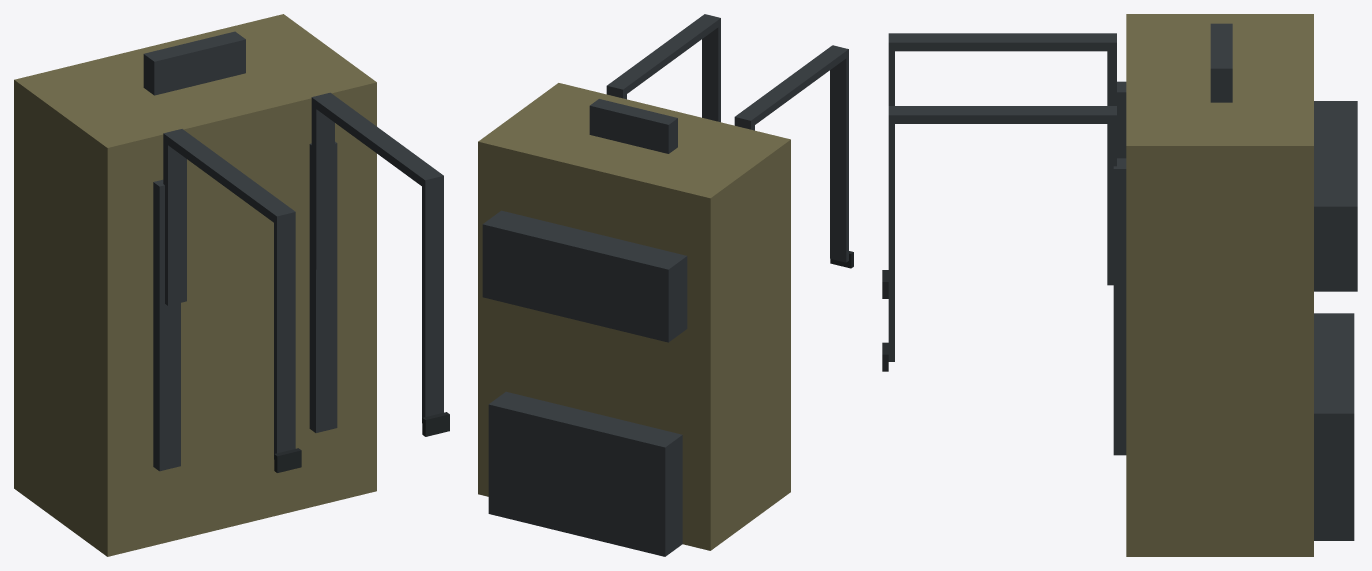
File: hiking_backpack_worn.glb
The picture shows the model from 3 angles, left to right: view 1: azimuth 30°, elevation 25°; view 2: azimuth 150°, elevation 25°; view 3: azimuth 270°, elevation 25°; orthographic projection. The views are drawn at different scales.
Visible parts, largest first — view 1: bag:bag, straps:straps; view 2: bag:bag, straps:straps; view 3: bag:bag, straps:straps.
Part boxes in pixels (x1,y1,x2,y2): bag:bag: (14,14,376,556); straps:straps: (163,92,449,472); bag:bag: (478,83,790,556); straps:straps: (606,14,853,268); bag:bag: (1113,14,1357,556); straps:straps: (882,33,1116,371).
Size of the model in its own units: 0.4 by 0.628 by 0.608.
